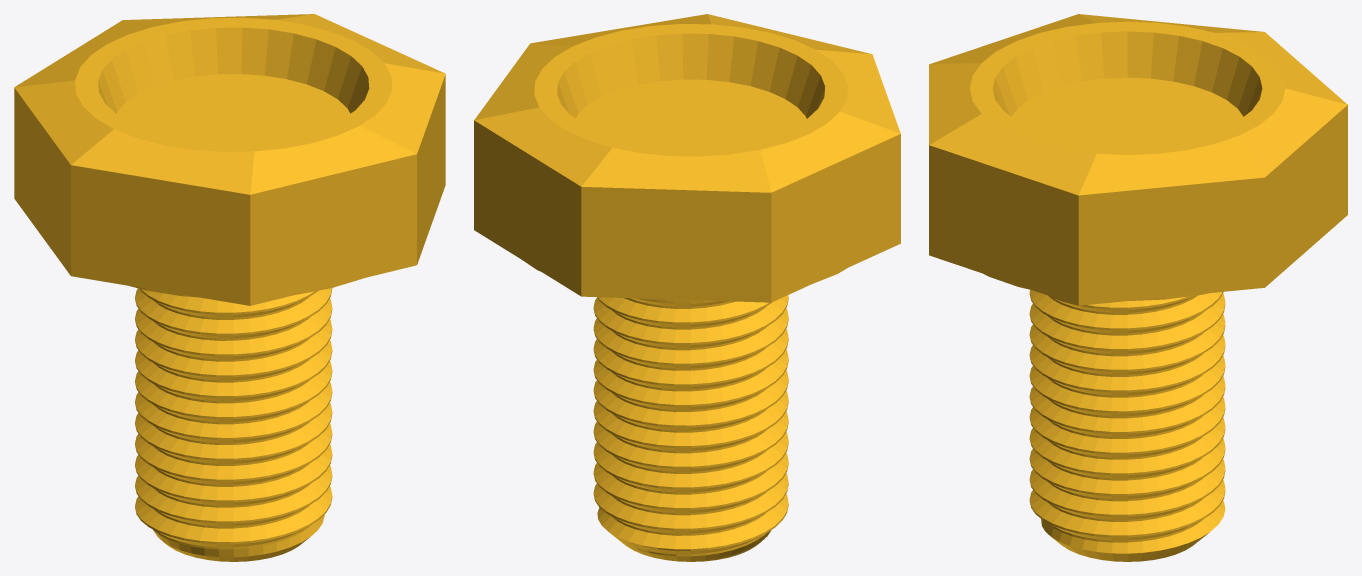
File: nuts and bolts gold.fbx
3 renders of one model, left to right at view 1: azimuth 30°, elevation 25°; view 2: azimuth 150°, elevation 25°; view 3: azimuth 270°, elevation 25°, orthographic.
Visible parts, largest first — view 1: Bolt; view 2: Bolt; view 3: Bolt.
Boxes of the visible parts, <box> form: Bolt: <box>14,14,445,561</box>; Bolt: <box>474,14,900,561</box>; Bolt: <box>929,14,1347,561</box>.
Size of the model in its own units: 195 by 221 by 190.
